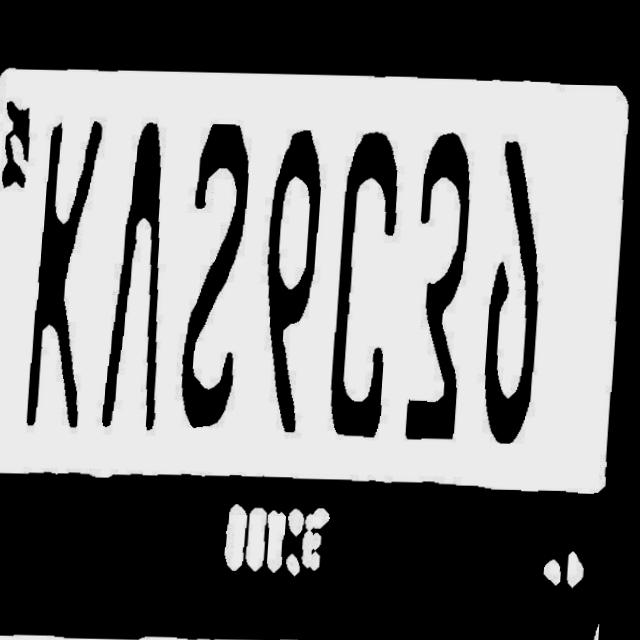3: (403, 126, 490, 445)
6: (249, 111, 341, 441)
9: (478, 133, 564, 444)
c: (328, 118, 415, 442)
k: (15, 105, 115, 436)
s: (172, 113, 267, 439)
v: (106, 121, 179, 437)
